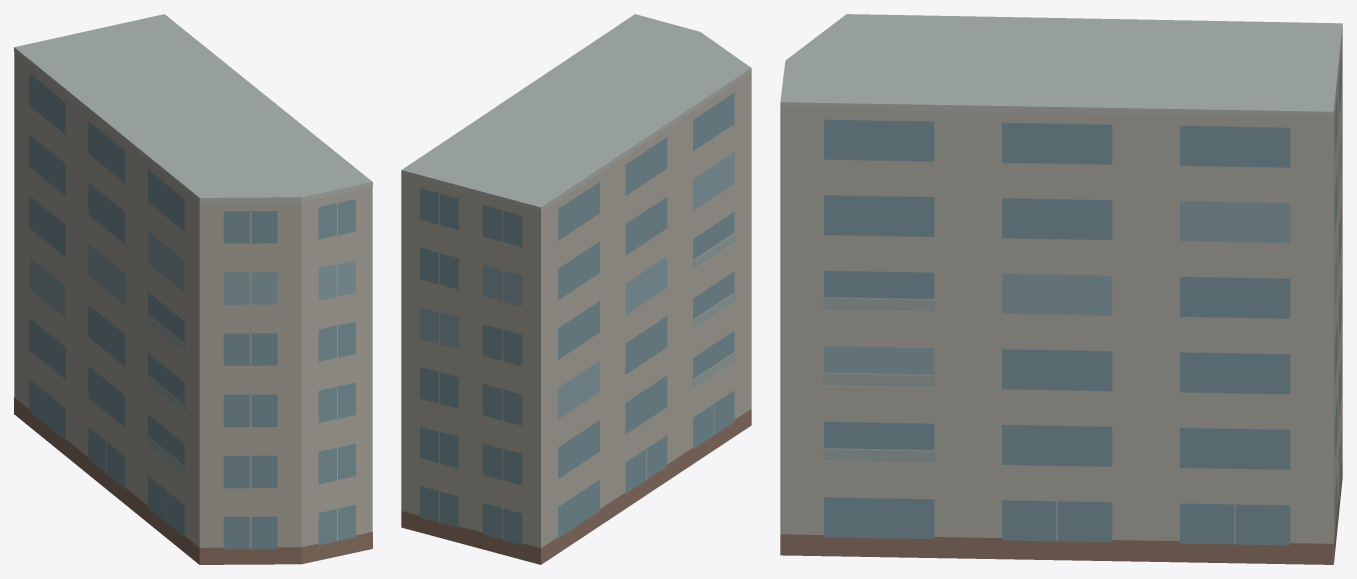
File: survey-upis-32970654.glb
3 renders of one model, left to right at view 1: azimuth 30°, elevation 25°; view 2: azimuth 150°, elevation 25°; view 3: azimuth 270°, elevation 25°, orthographic. The views are drawn at different scales.
Visible parts, largest first — view 1: survey-upis-32970654.tmp; view 2: survey-upis-32970654.tmp; view 3: survey-upis-32970654.tmp.
Boxes of the visible parts, bbox=[...] form: survey-upis-32970654.tmp: bbox=[14, 14, 372, 564]; survey-upis-32970654.tmp: bbox=[401, 14, 751, 564]; survey-upis-32970654.tmp: bbox=[780, 14, 1342, 564].
Size of the model in its own units: 8.4 by 18.15 by 20.42.
